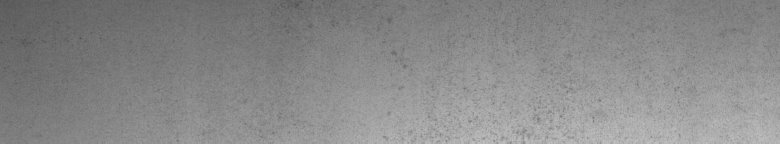ib: (382, 17, 608, 136)
